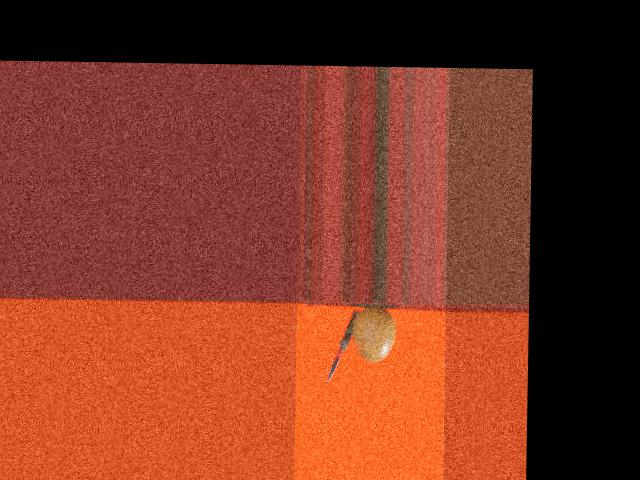egg: (352, 306, 395, 361)
